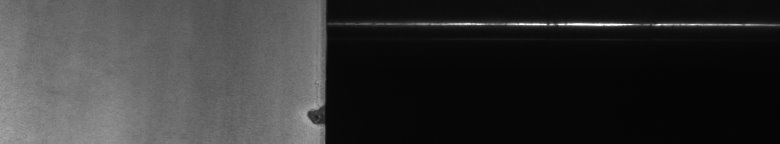hb: (300, 100, 316, 132)
